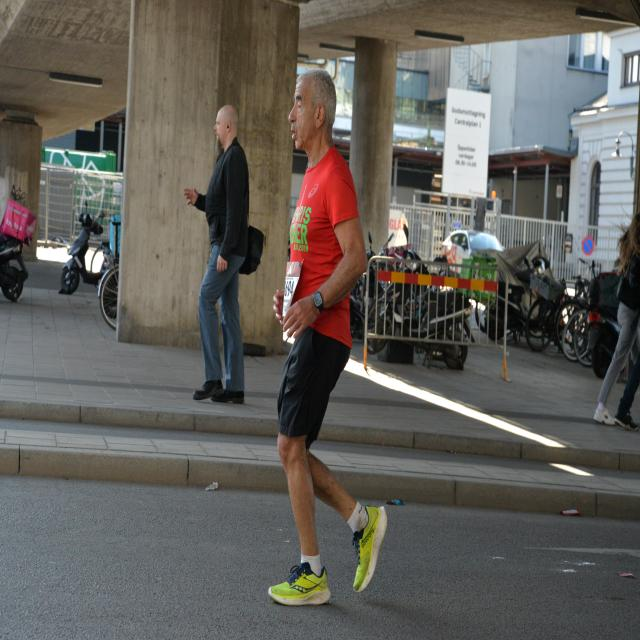runner-detect: (262, 56, 394, 620)
